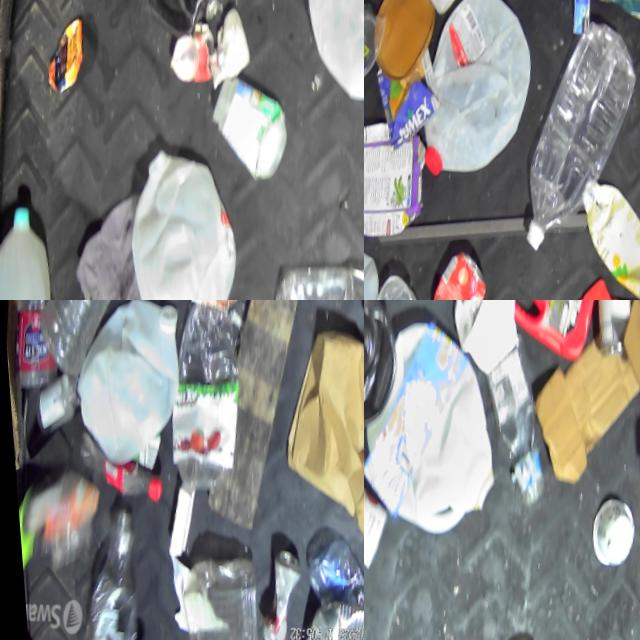can: (247, 552, 297, 640), (412, 252, 486, 300), (160, 33, 213, 96)
milk_jug: (406, 0, 544, 196), (59, 300, 186, 470), (105, 150, 246, 300), (283, 0, 364, 118), (0, 204, 62, 300)
non_white_jug: (95, 0, 249, 58)
plastic_bottle: (501, 34, 640, 277), (151, 300, 252, 505), (25, 300, 147, 380), (70, 519, 139, 640), (293, 543, 364, 638), (0, 300, 59, 396), (257, 250, 364, 300)
